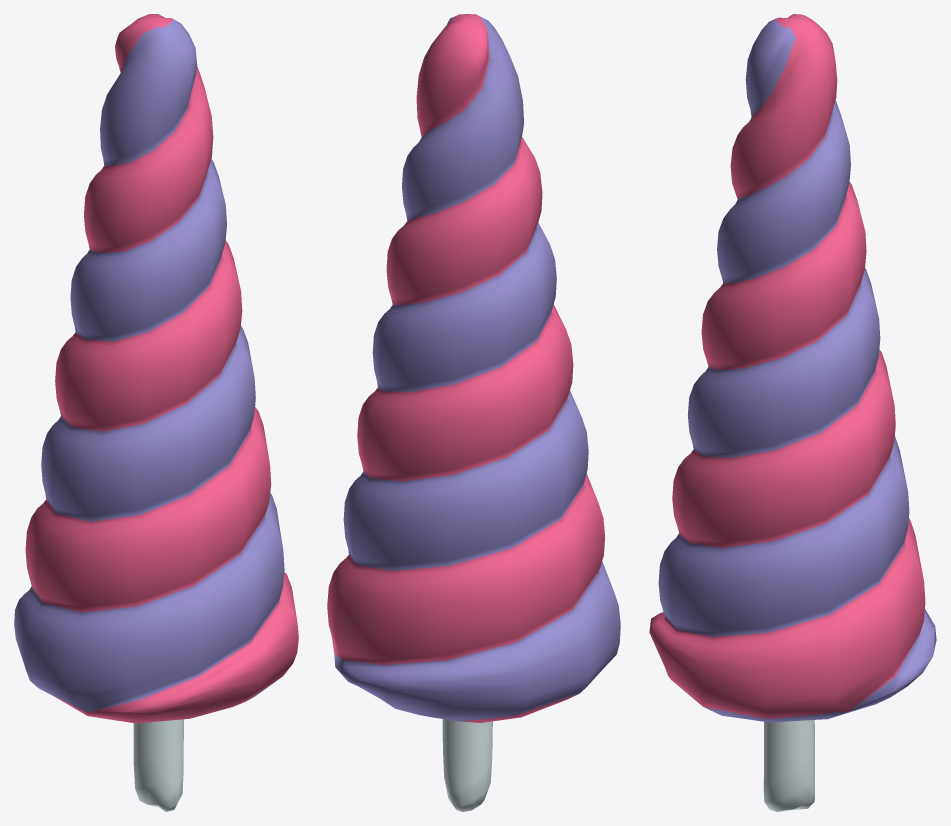
Rendered from Tree_Candy_03.fbx.
3 views of the same model, side by side, from view 1: azimuth 30°, elevation 25°; view 2: azimuth 150°, elevation 25°; view 3: azimuth 270°, elevation 25° (orthographic).
Parts seen in each view (by area): view 1: Tree_Candy_03_LOD0; view 2: Tree_Candy_03_LOD0; view 3: Tree_Candy_03_LOD0.
Part boxes in pixels (left/top/right/bottom): Tree_Candy_03_LOD0: left=14, top=14, right=298, bottom=811; Tree_Candy_03_LOD0: left=327, top=14, right=620, bottom=811; Tree_Candy_03_LOD0: left=649, top=14, right=936, bottom=811.
Size of what is drawn, in the model's own units: 573 by 1722 by 566.
